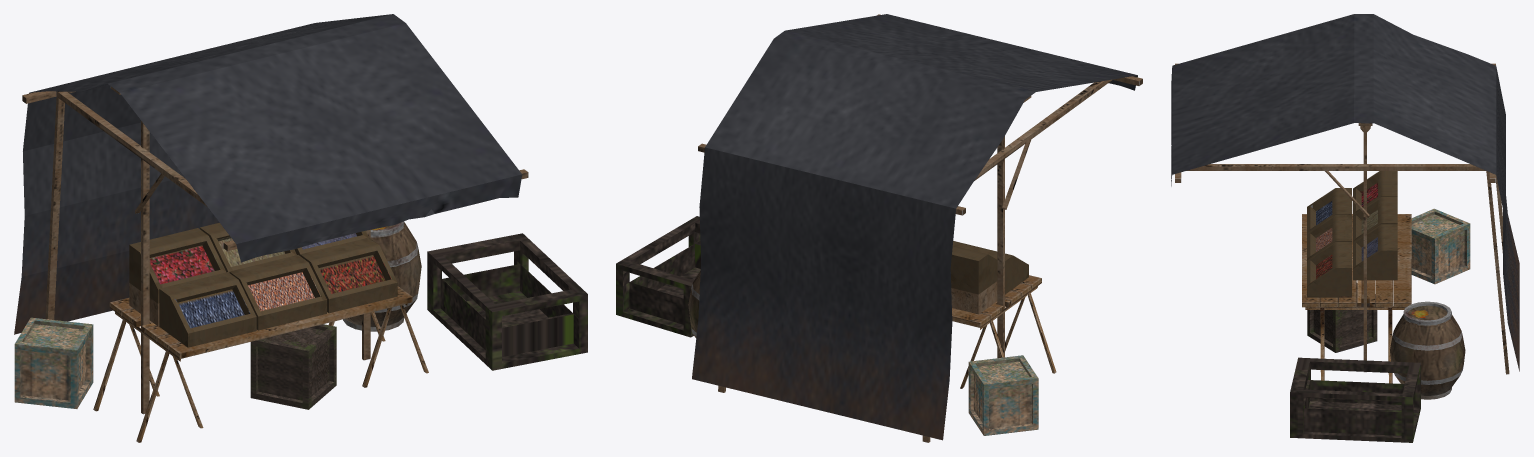
File: dry fruits stall.fbx
The picture shows the model from 3 angles, left to right: view 1: azimuth 30°, elevation 25°; view 2: azimuth 150°, elevation 25°; view 3: azimuth 270°, elevation 25°; orthographic projection. The views are drawn at different scales.
Parts seen in each view (by area): view 1: canvas, bari blue barry, wine, crate2, table, crate1, barrel; view 2: canvas, wine, crate2, bari blue barry, table, box, barrel; view 3: canvas, wine, bari blue barry, barrel, table, crate2, crate1.
Boxes of the visible parts, <box> form: canvas: <box>14,14,528,414</box>; bari blue barry: <box>129,222,397,347</box>; wine: <box>427,233,587,370</box>; crate2: <box>14,317,93,408</box>; table: <box>93,286,428,442</box>; crate1: <box>250,324,336,409</box>; barrel: <box>343,221,421,331</box>; canvas: <box>692,14,1142,442</box>; wine: <box>616,216,700,337</box>; crate2: <box>968,355,1038,435</box>; bari blue barry: <box>950,241,1028,294</box>; table: <box>952,275,1056,388</box>; box: <box>951,281,997,314</box>; barrel: <box>688,271,700,338</box>; canvas: <box>1171,14,1519,374</box>; wine: <box>1290,357,1420,442</box>; bari blue barry: <box>1307,171,1397,297</box>; barrel: <box>1390,301,1465,399</box>; table: <box>1302,214,1411,383</box>; crate2: <box>1411,208,1470,284</box>; crate1: <box>1307,283,1377,352</box>.
Size of the model in its own units: 6745 by 4362 by 5264.
1 material, 1 textured.
